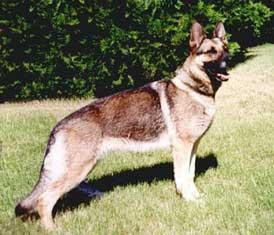German_shepherd: (14, 21, 236, 233)
